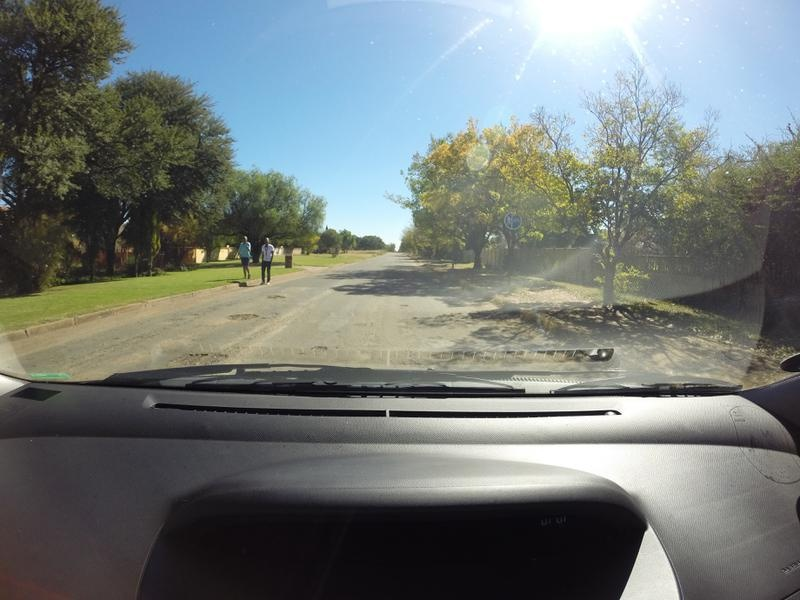pothole: (411, 339, 492, 376), (491, 343, 576, 372), (165, 344, 226, 364), (209, 306, 259, 325), (258, 287, 287, 307), (296, 341, 328, 358)
